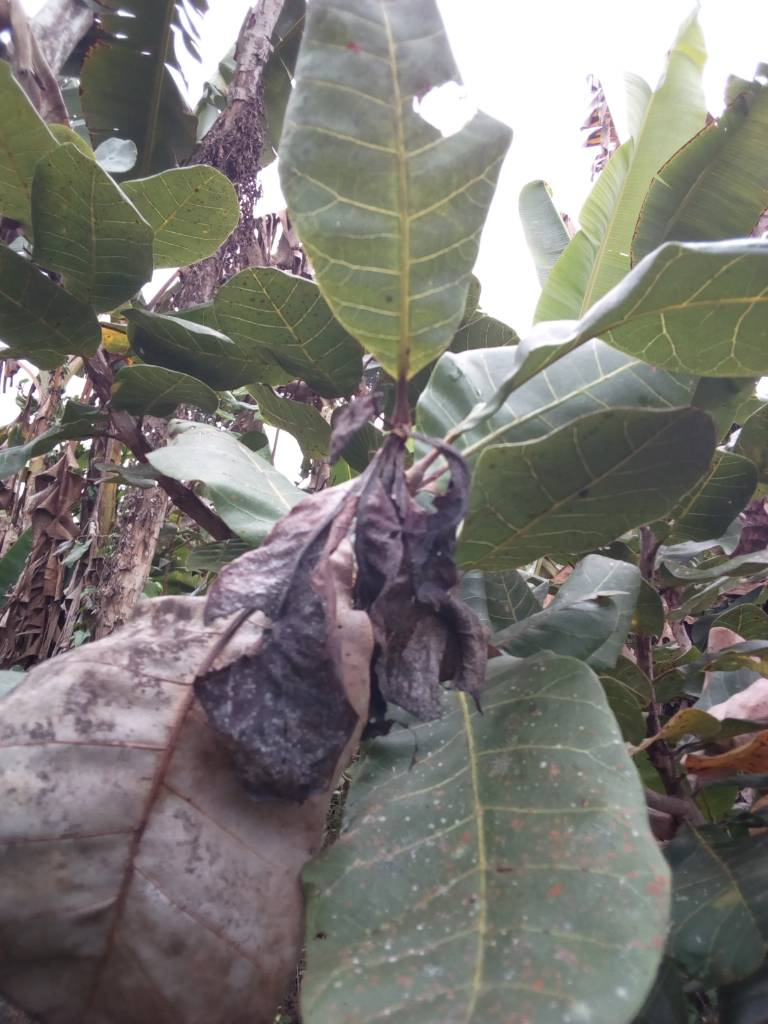Die-black: (195, 455, 361, 819), (355, 424, 502, 746)
